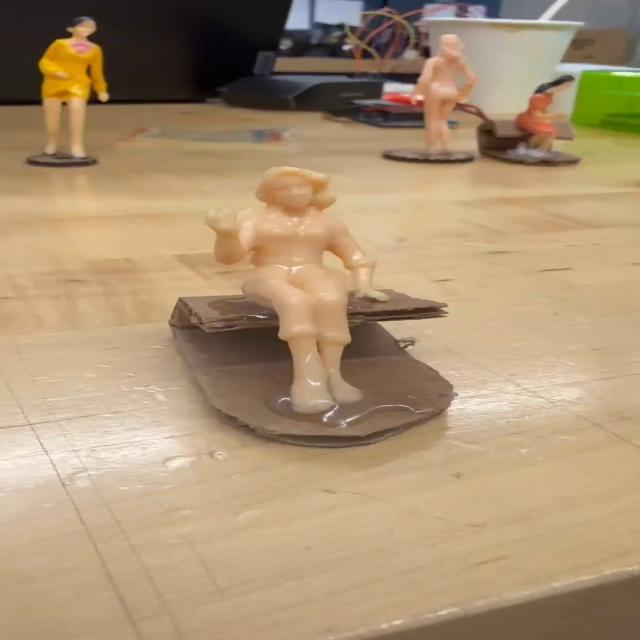Unauthorized: (182, 138, 412, 422)
